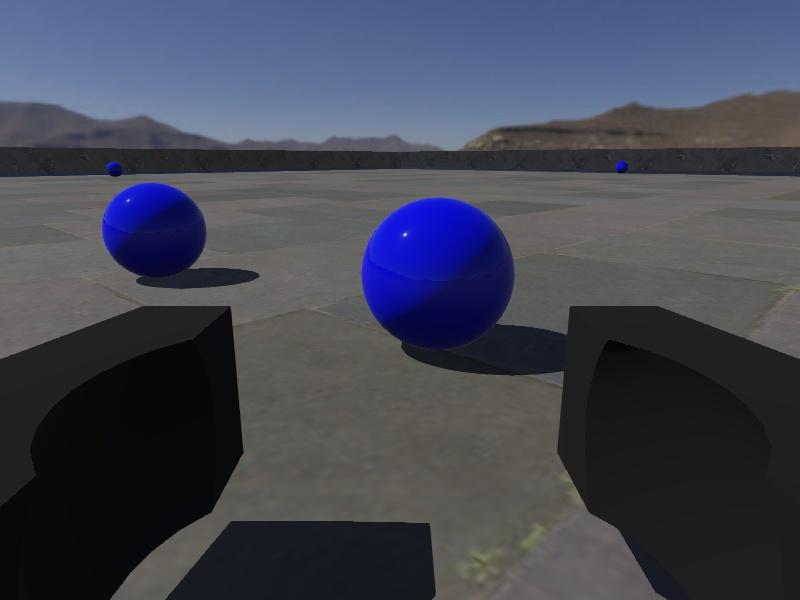blue ball: (362, 196, 515, 351), (102, 182, 206, 279), (105, 160, 123, 178), (615, 160, 628, 171)
